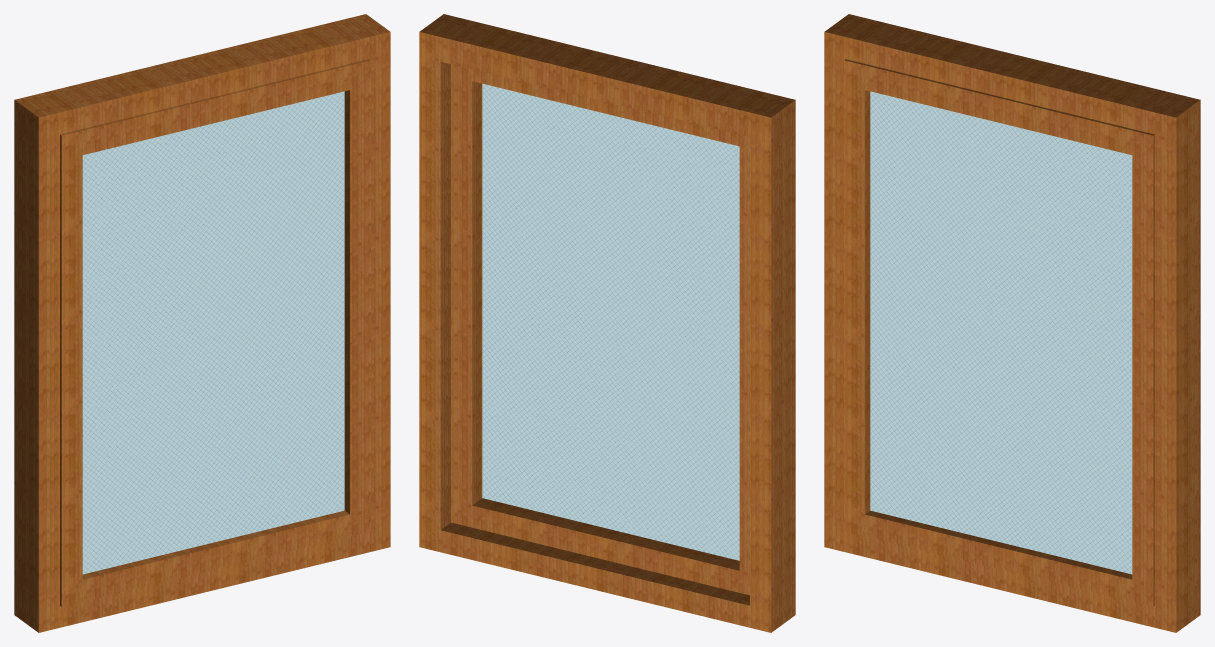
The model's file is okno.glb.
The picture shows the model from 3 angles, left to right: view 1: azimuth 30°, elevation 25°; view 2: azimuth 150°, elevation 25°; view 3: azimuth 330°, elevation 25°; orthographic projection.
Visible parts, largest first — view 1: SketchUp; view 2: SketchUp; view 3: SketchUp.
Part boxes in pixels (box(x1,y1,x2,y2)): SketchUp: box(14, 14, 390, 632); SketchUp: box(419, 14, 795, 632); SketchUp: box(824, 14, 1200, 632).
Bounding box in the file's own units: 98.43 × 138 × 12.6.
Materials: 2 (2 with a texture image).
